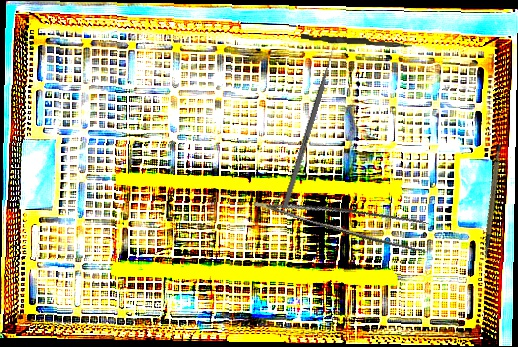Pusher: (281, 40, 339, 210), (300, 34, 413, 48)
Scalpel Handle: (466, 143, 516, 260)
Tissue Forceps: (253, 172, 437, 259)
